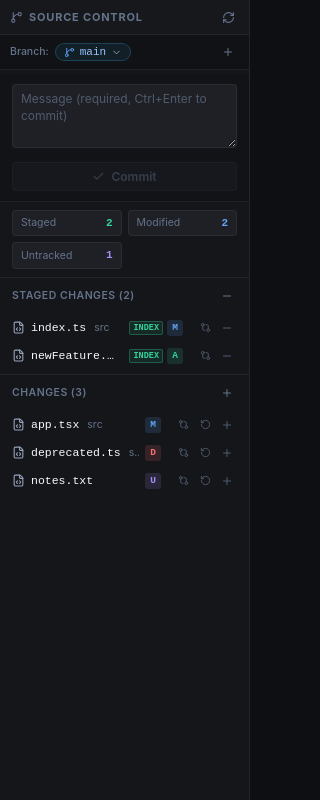
Test: SourceControl Component Tests › Group 3: Staging & Unstaging › displays action error banner when staging operation fails
The width and height of the screenshot is (320, 800).
What coordinates should you click on to do the following:
click the button named "Stage src/app.tsx"
I would click on:
 (227, 425)
Its box is [217, 415, 237, 435].
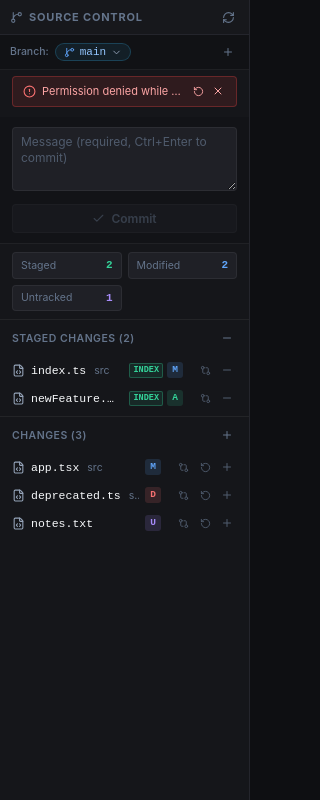
Now the message "Permission denied while accessing file" is shown, box [12, 76, 237, 106]
Now the text "Permission denied while accessing file" is shown, box [42, 83, 183, 100]
